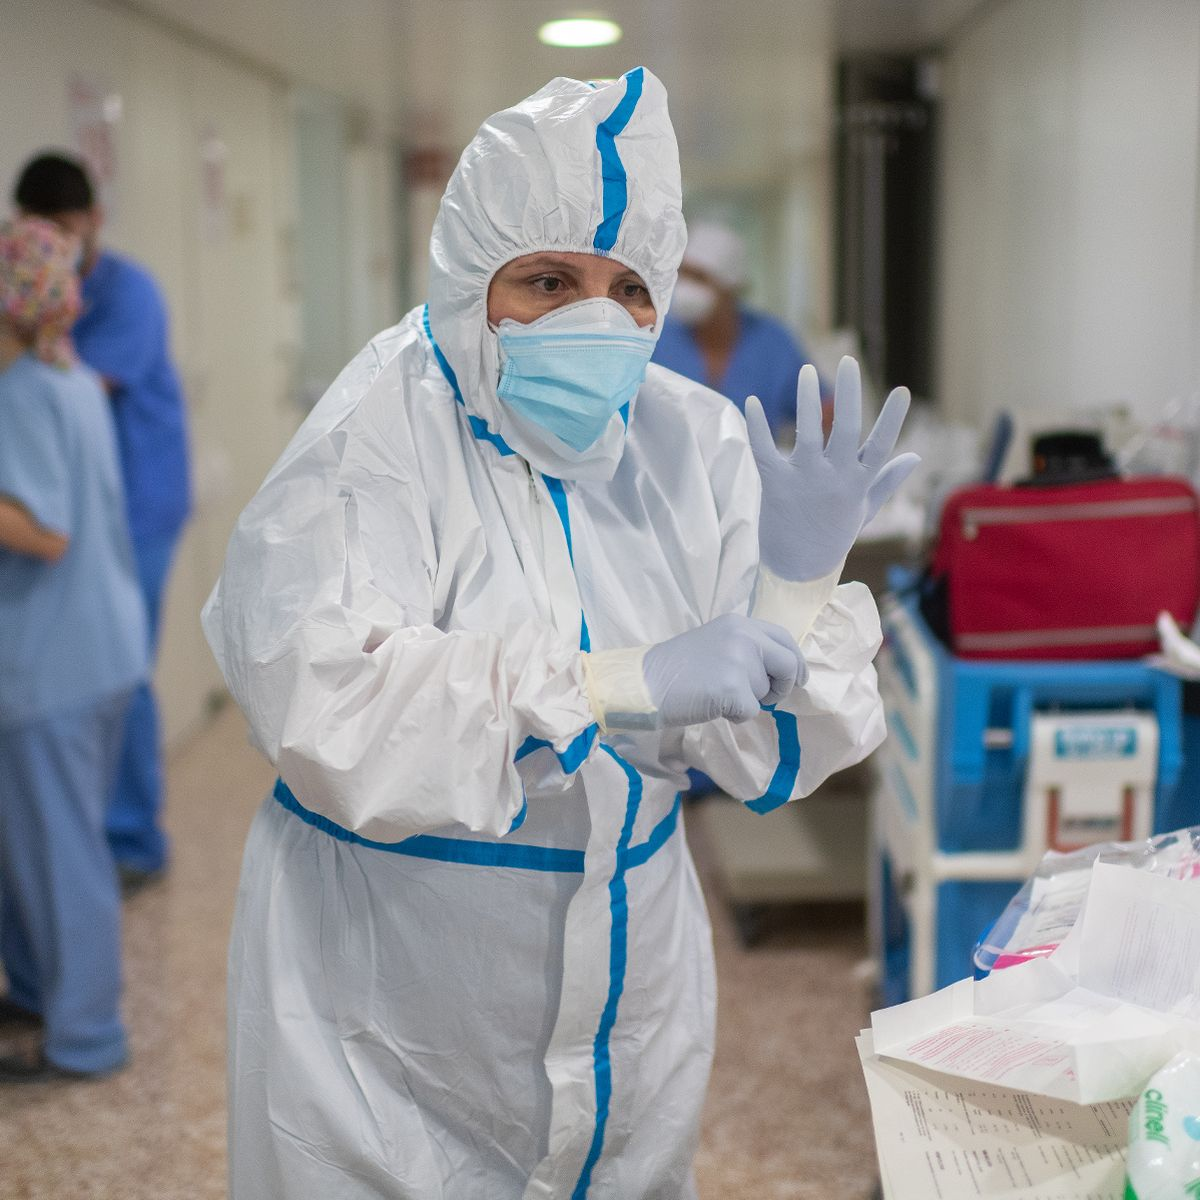Coverall: (202, 61, 898, 1200)
Gloves: (734, 344, 929, 585), (571, 609, 811, 727)
with_mask: (486, 253, 650, 481)
